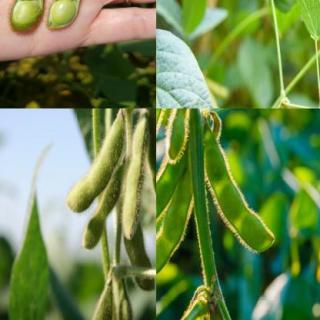soya: (203, 123, 275, 255), (67, 115, 125, 213), (156, 173, 192, 277), (121, 118, 148, 242), (156, 159, 188, 242), (82, 183, 120, 251), (123, 239, 155, 293), (168, 109, 192, 160), (5, 0, 44, 31), (48, 0, 84, 29), (146, 108, 156, 208), (89, 286, 113, 320), (119, 296, 132, 320)
